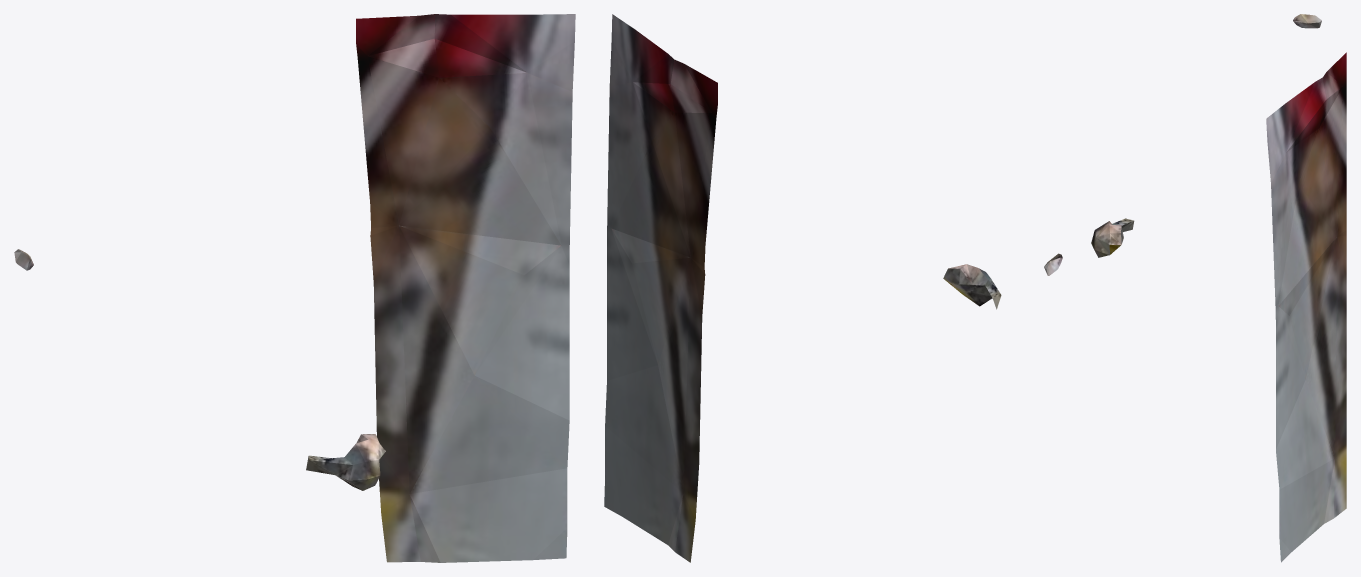
3 views of the same model, side by side, from view 1: azimuth 30°, elevation 25°; view 2: azimuth 150°, elevation 25°; view 3: azimuth 270°, elevation 25° (orthographic). The views are drawn at different scales.
Size of the model in its own units: 0.8374 by 0.8374 by 0.4367.
1 material, 1 textured.
